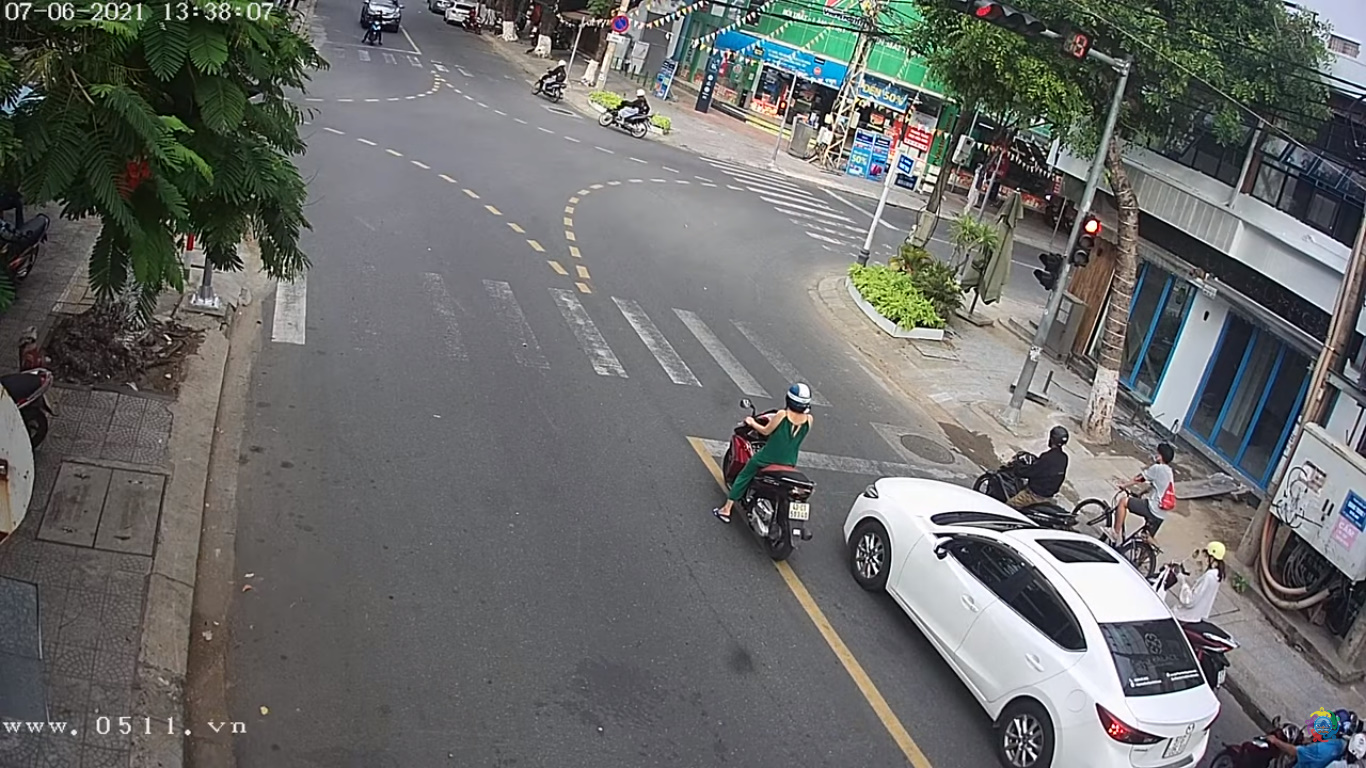car: (849, 474, 1224, 765)
